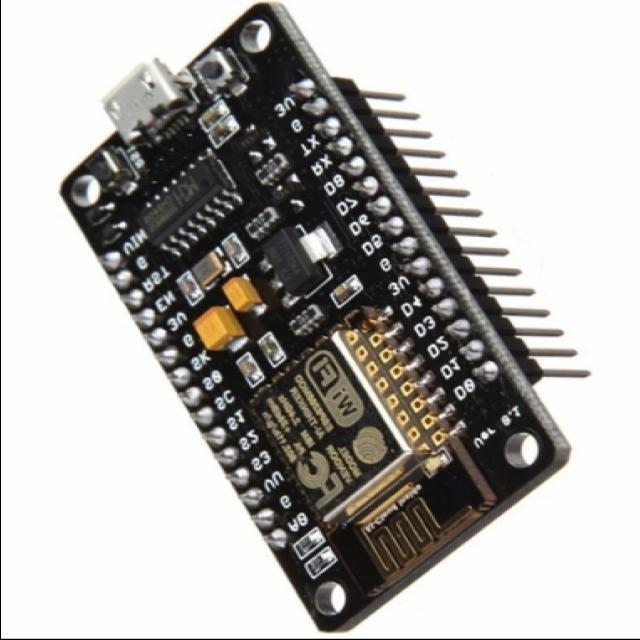Esp8266: (62, 4, 568, 631)
